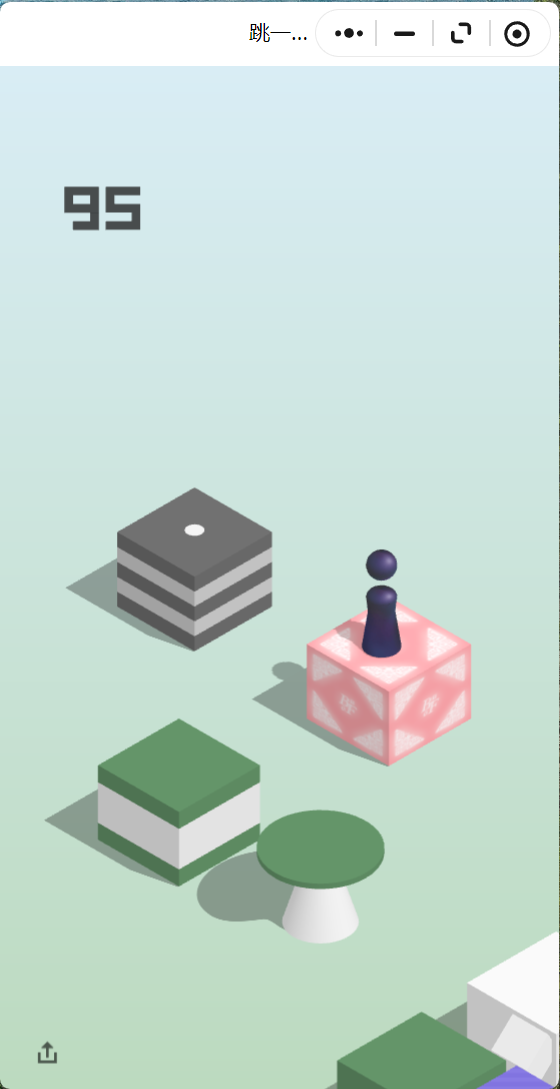piece: (365, 550, 396, 653)
target: (117, 488, 271, 575)
